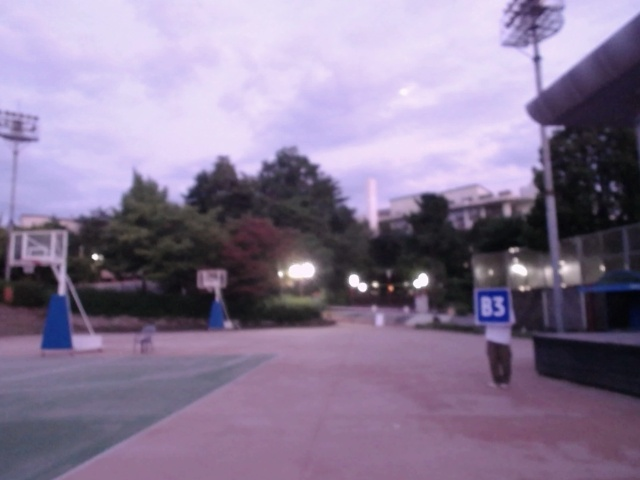delivery_b3: (474, 288, 516, 326)
